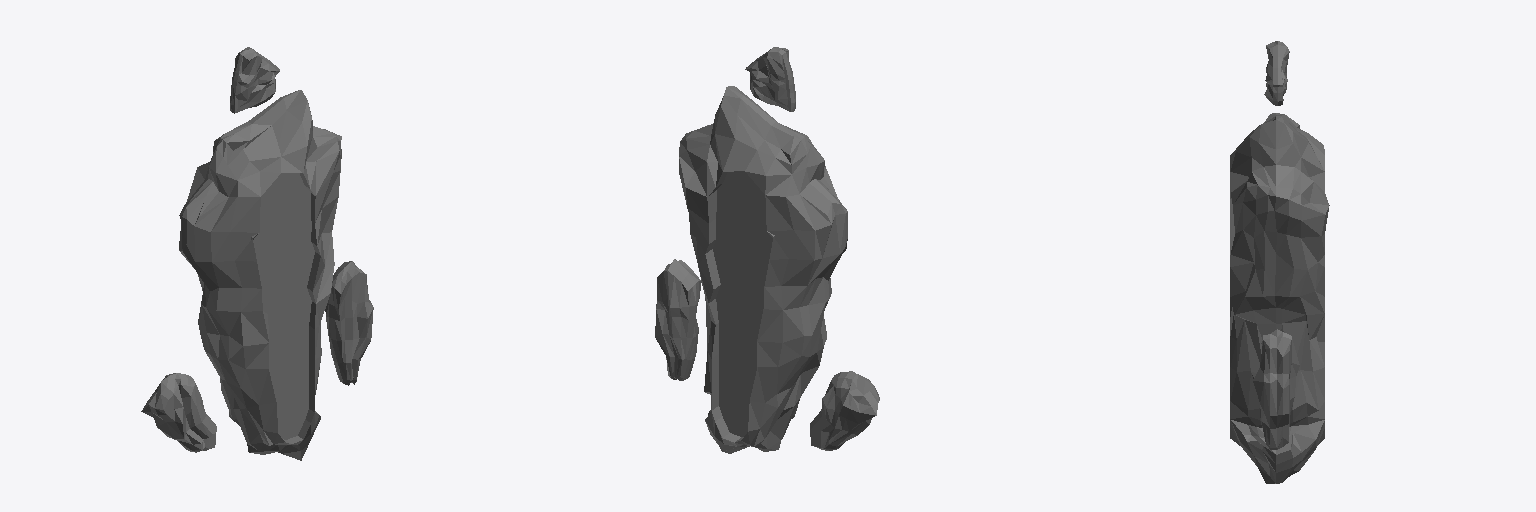
Rendered from Jewel_low.obj.
3 renders of one model, left to right at view 1: azimuth 30°, elevation 25°; view 2: azimuth 150°, elevation 25°; view 3: azimuth 270°, elevation 25°, orthographic.
Parts seen in each view (by area): view 1: pPlane5; view 2: pPlane5; view 3: pPlane5.
Part boxes in pixels (x1,y1,x2,y2): pPlane5: (141,47,373,460); pPlane5: (655,47,879,453); pPlane5: (1230,41,1329,483).
Size of the model in its own units: 145 by 259 by 55.64.